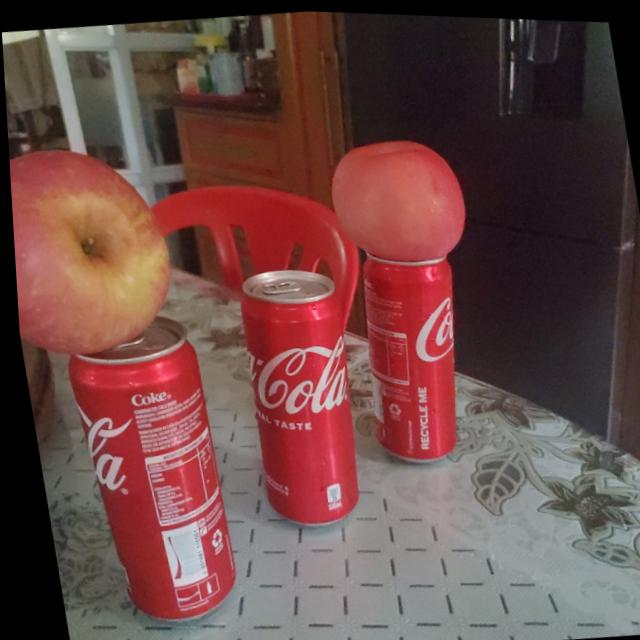apple: (6, 136, 172, 359), (320, 134, 468, 268)
coke: (61, 322, 238, 624), (230, 259, 370, 534), (352, 245, 478, 458)
